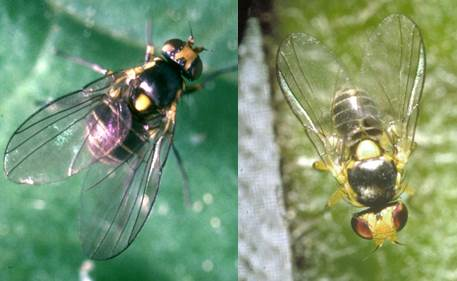Trifoli: (7, 24, 196, 257), (270, 11, 437, 260)
